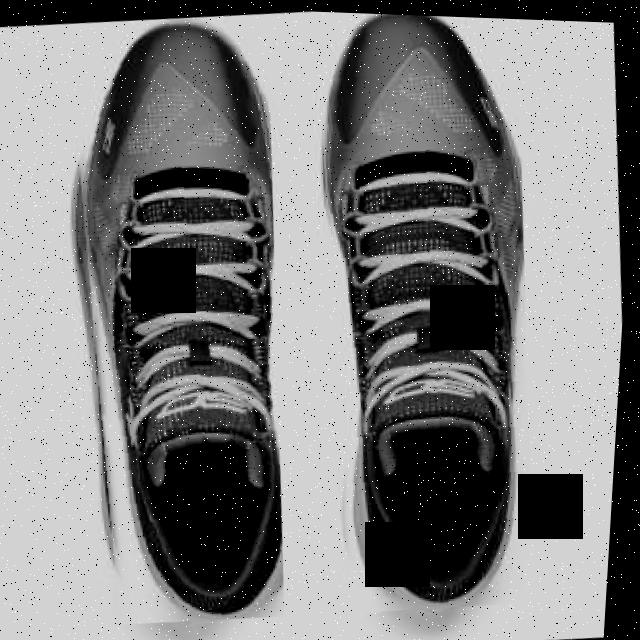shoe: (39, 6, 320, 631), (288, 9, 568, 618)
